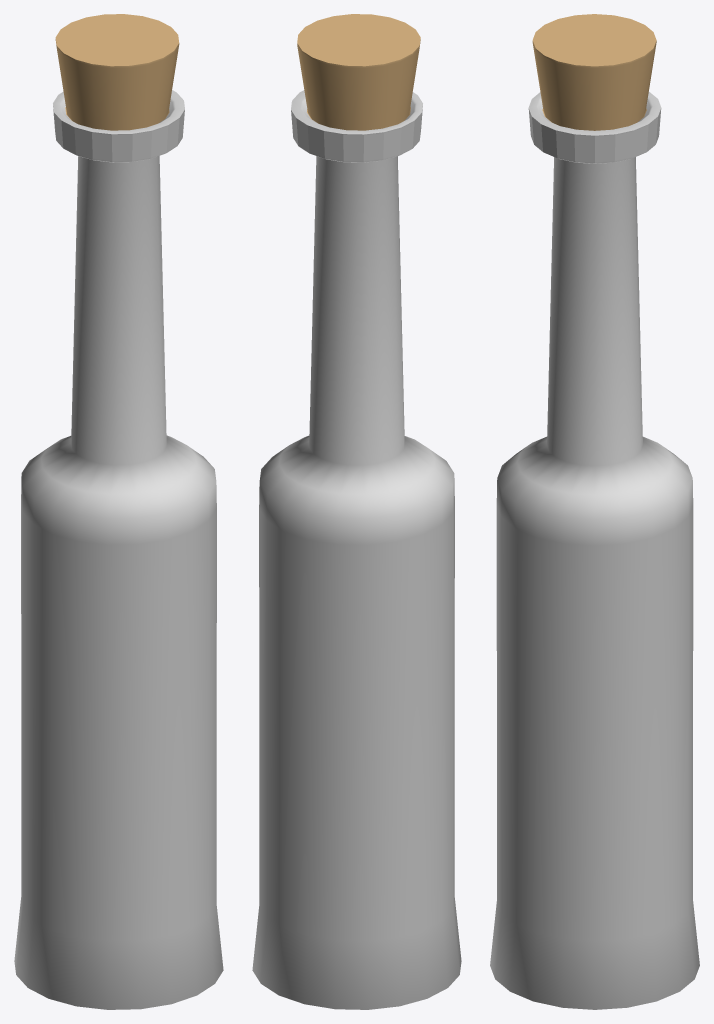
Rendered from LongBottle.fbx.
3 renders of one model, left to right at view 1: azimuth 30°, elevation 25°; view 2: azimuth 150°, elevation 25°; view 3: azimuth 270°, elevation 25°, orthographic.
Visible parts, largest first — view 1: LongBottle; view 2: LongBottle; view 3: LongBottle.
Part boxes in pixels (bbox=[...]): LongBottle: bbox=[14, 14, 223, 1009]; LongBottle: bbox=[252, 14, 461, 1009]; LongBottle: bbox=[490, 14, 699, 1009].
Size of the model in its own units: 0.941 by 4.58 by 0.941.
